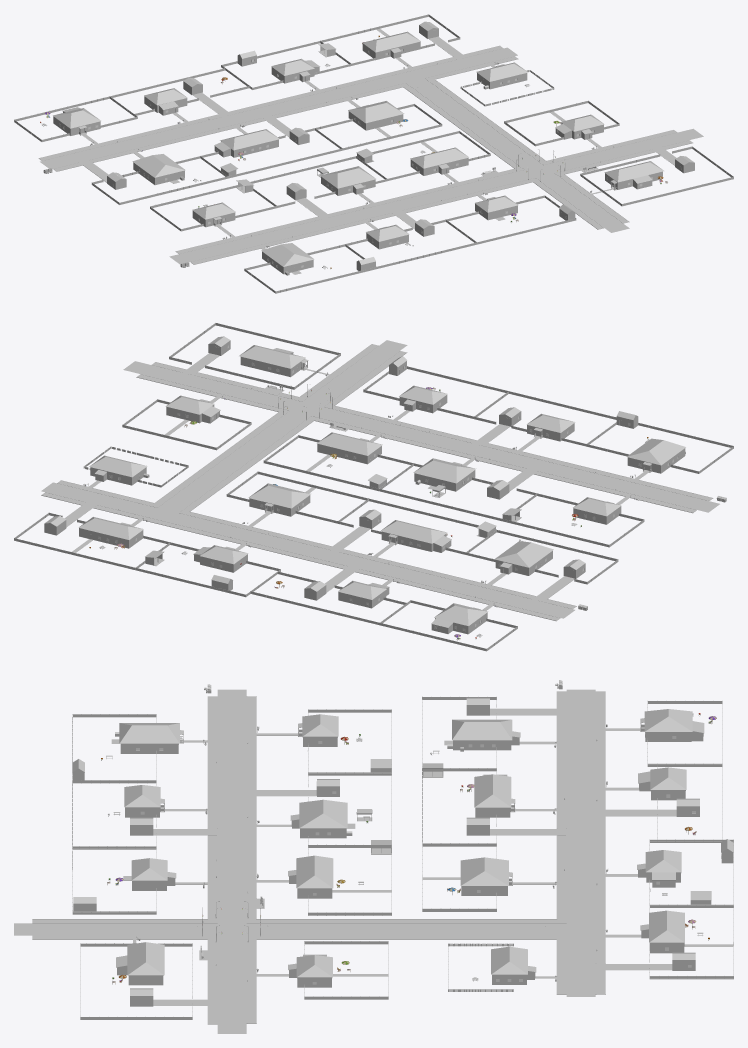
File: PuebloDandery.fbx
3 views of the same model, one above another, from view 1: azimuth 30°, elevation 25°; view 2: azimuth 150°, elevation 25°; view 3: azimuth 270°, elevation 25° (orthographic). The views are drawn at different scales.
Parts seen in each view (by area): view 1: Plane.003, Tropka.006, Tropka.018, Tropka.023, Tropka.012, Tropka.019, Zabor.025, Tropka.024, Roof, Roof.012, Roof.020, Roof.008 (+20 smaller); view 2: Plane.003, Tropka.006, Tropka.018, Tropka.023, Tropka.012, Tropka.019, Zabor.025, Tropka.024, Roof.012, Roof, Roof.020, Roof.008 (+29 smaller); view 3: Plane.003, Tropka.006, Tropka.018, Tropka.023, Tropka.012, Tropka.019, Roof.020, Roof.008, Roof, Tropka.024, Roof.012, Roof.018 (+22 smaller).
Part boxes in pixels (x1,y1,x2,y2): Plane.003: (40, 47, 703, 264); Tropka.006: (53, 82, 524, 253); Tropka.018: (190, 177, 603, 264); Tropka.023: (425, 56, 677, 165); Tropka.012: (229, 45, 503, 114); Tropka.019: (554, 140, 692, 223); Zabor.025: (580, 146, 733, 206); Tropka.024: (38, 114, 221, 160); Roof: (132, 154, 185, 177); Roof.012: (261, 243, 314, 266); Roof.020: (320, 166, 376, 188); Roof.008: (348, 101, 404, 123); Plane.003: (41, 340, 719, 618); Tropka.006: (179, 415, 696, 608); Tropka.018: (323, 351, 713, 500); Tropka.023: (57, 374, 289, 507); Tropka.012: (41, 492, 347, 569); Tropka.019: (151, 344, 378, 401); Zabor.025: (169, 323, 340, 389); Tropka.024: (355, 568, 560, 621); Roof.012: (627, 438, 685, 465); Roof: (494, 541, 553, 567); Roof.020: (413, 458, 476, 483); Roof.008: (248, 483, 310, 508); Plane.003: (14, 689, 595, 1033); Tropka.006: (246, 691, 566, 923); Tropka.018: (32, 696, 217, 923); Tropka.023: (246, 935, 566, 1023); Tropka.012: (595, 816, 605, 994); Tropka.019: (32, 935, 217, 1024); Roof.020: (299, 799, 347, 828); Roof.008: (460, 857, 508, 885); Roof: (452, 719, 512, 740); Tropka.024: (595, 691, 605, 809); Roof.012: (119, 723, 179, 743); Roof.018: (127, 942, 164, 975).
Bounding box in the file's own units: 28457 × 758 × 24759.
